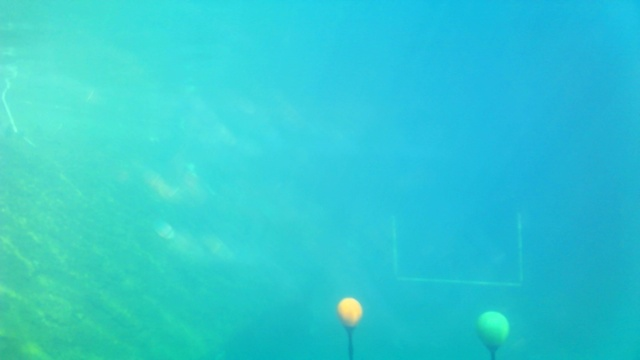buoy_green: (473, 308, 510, 355)
buoy_red: (336, 296, 364, 328)
channel: (390, 213, 526, 288)
